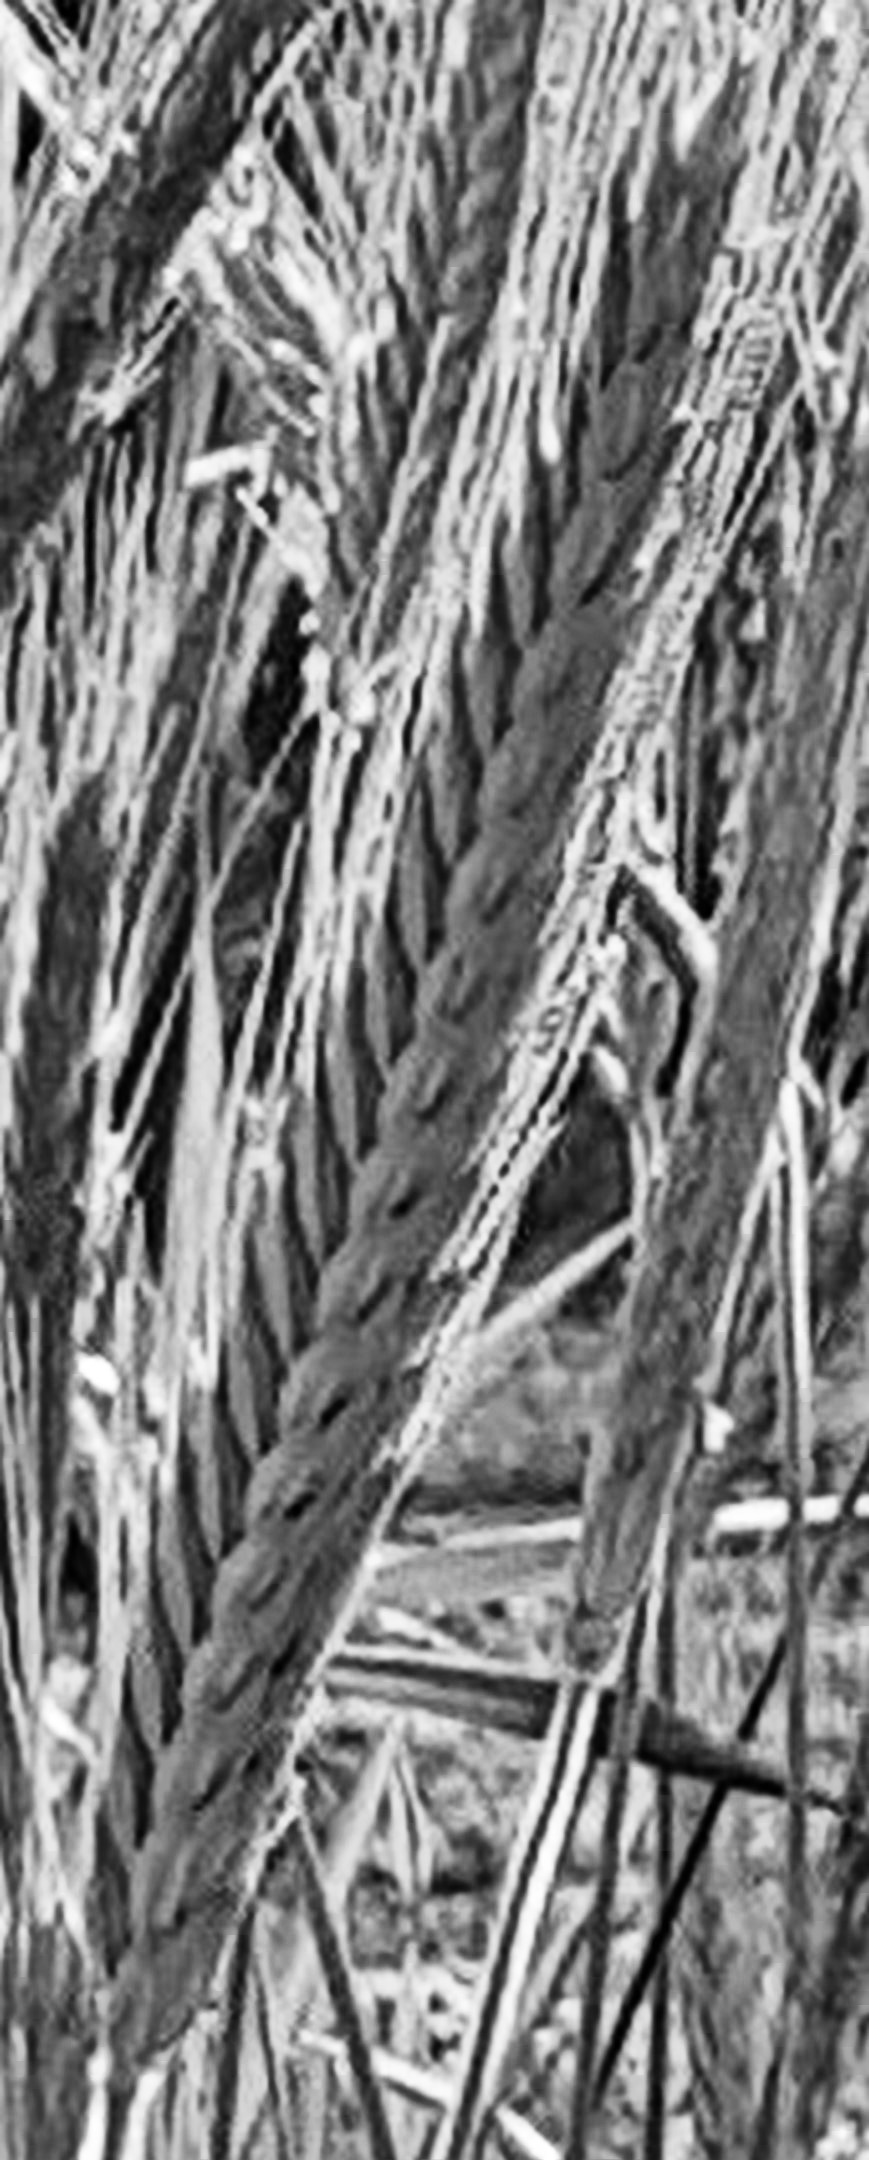Healthy Wheat: (107, 353, 733, 2015)
